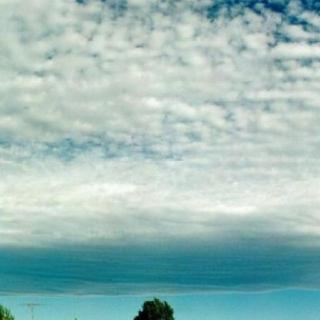Altocumulus: (0, 0, 316, 258)
